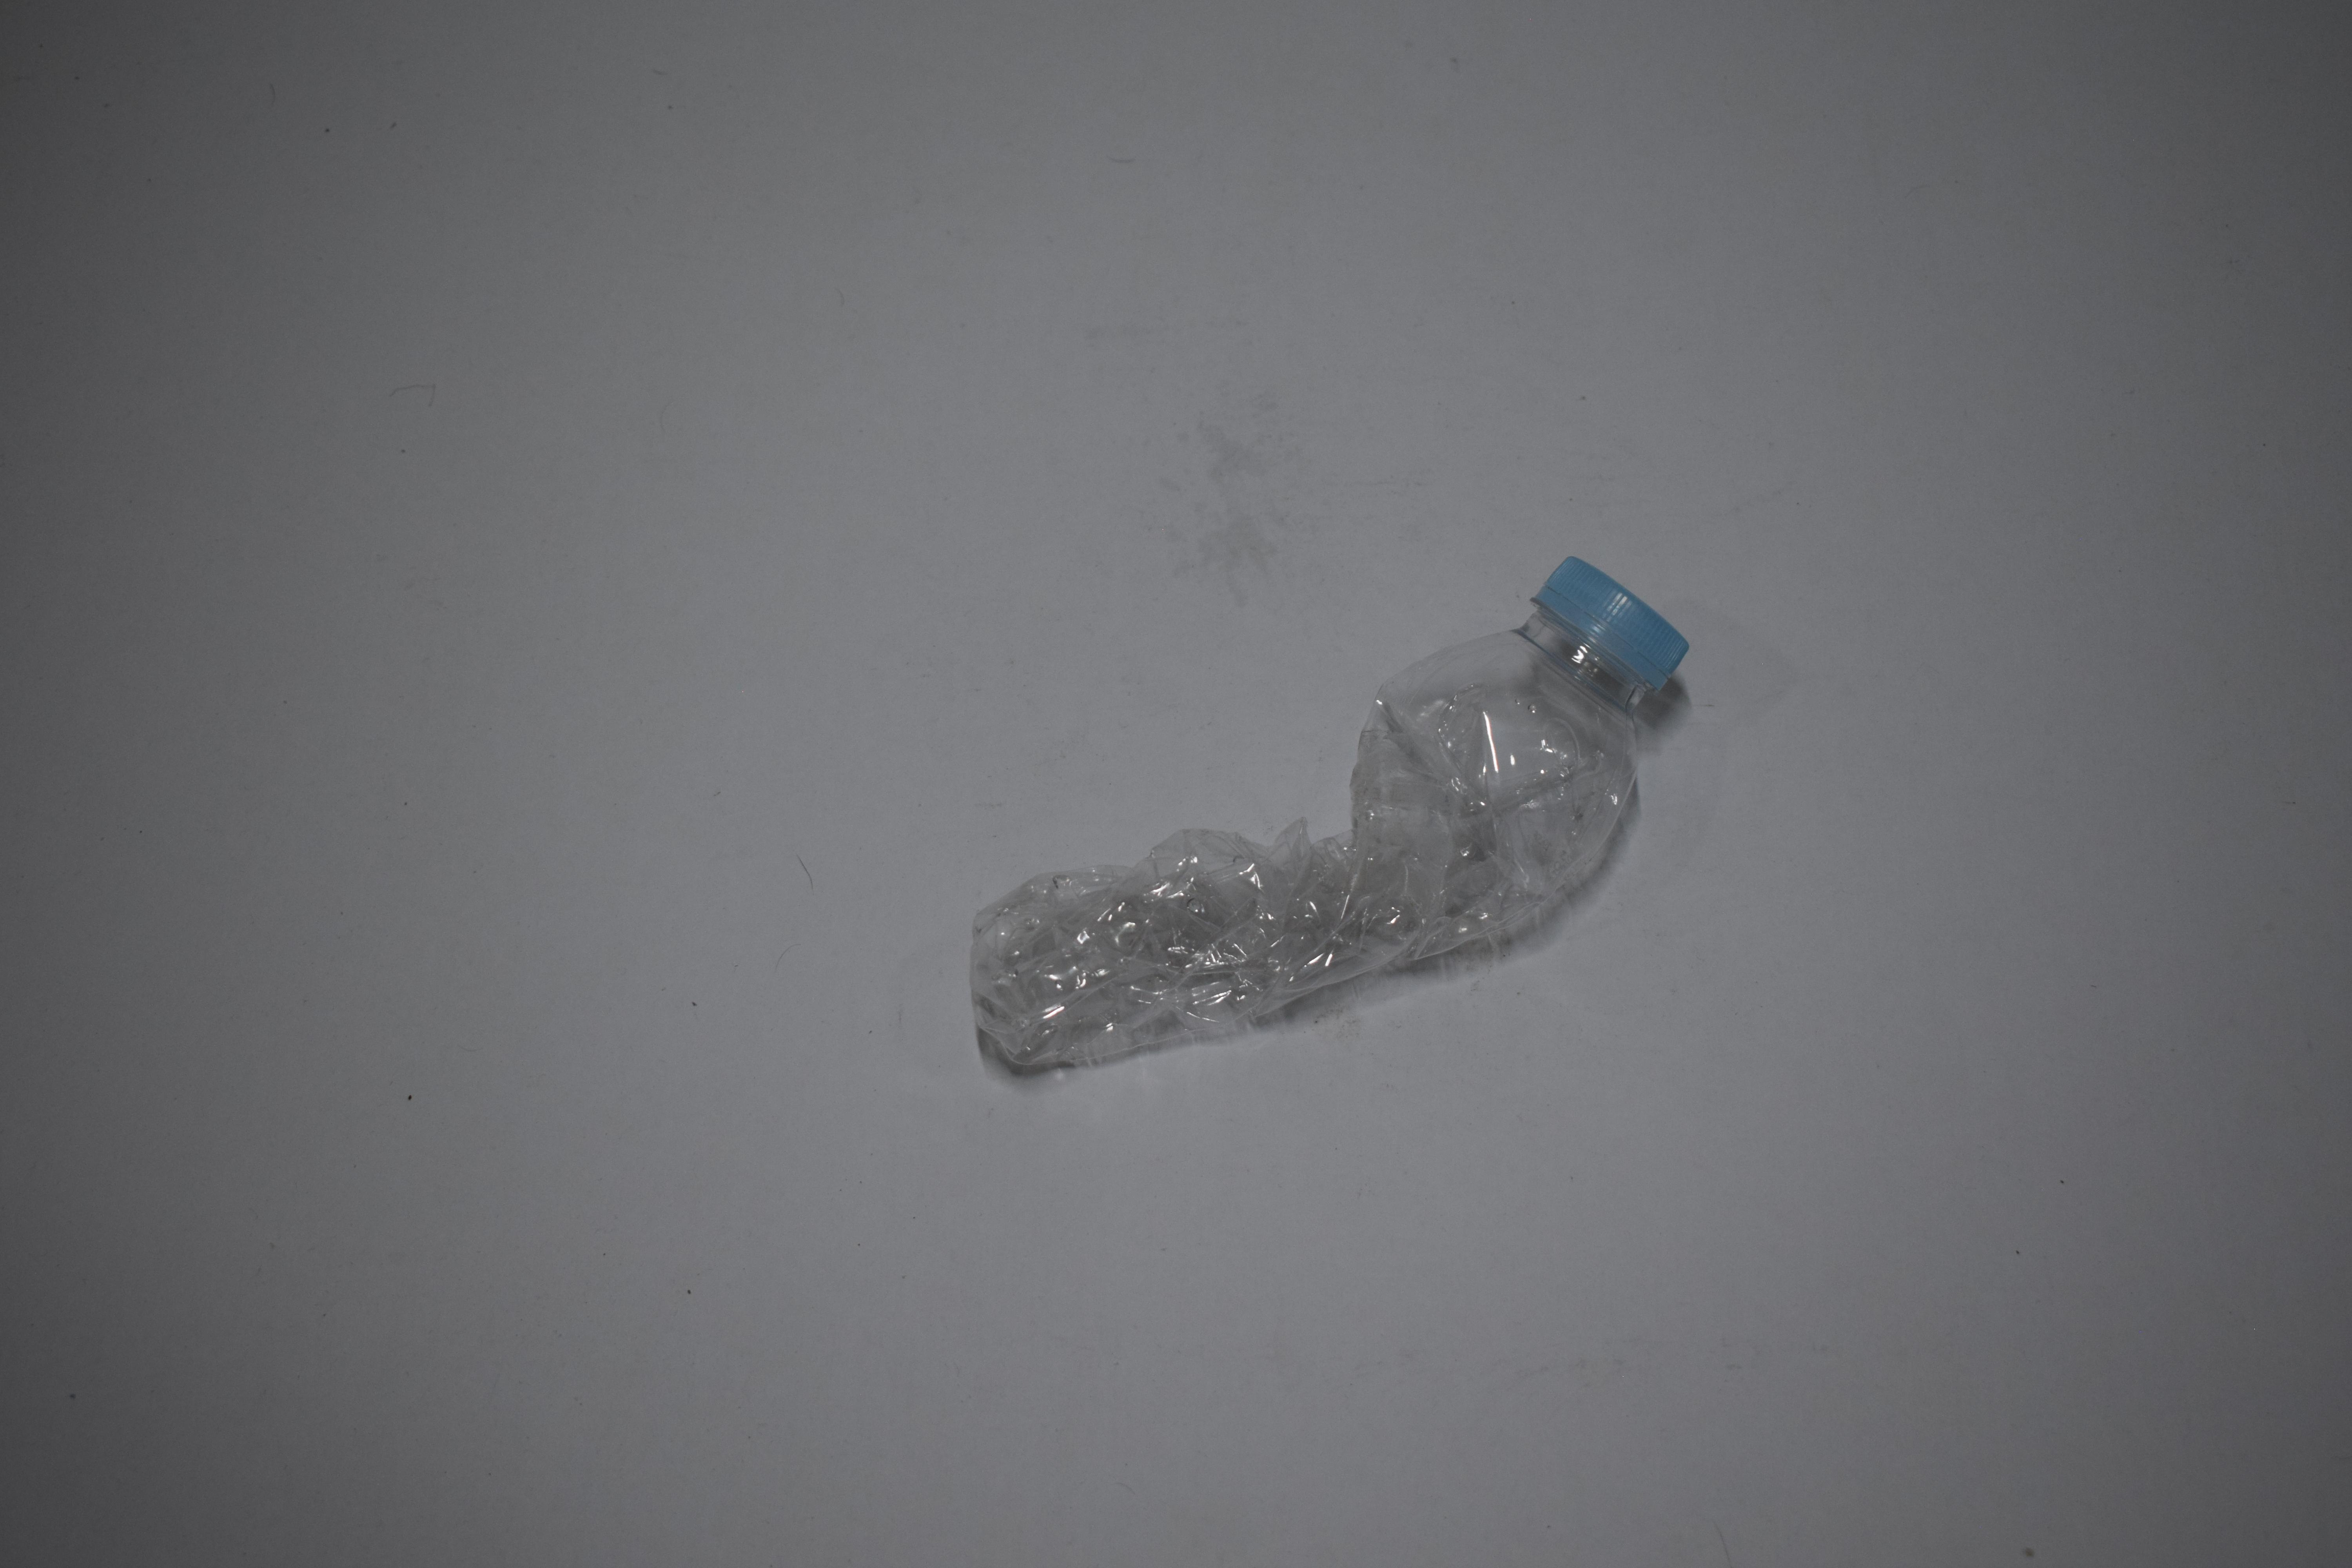bottle: (0, 0, 518, 301)
